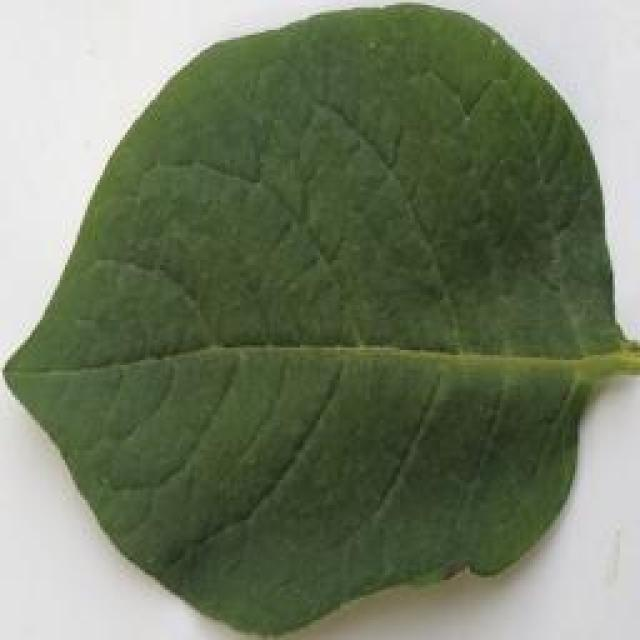Potato_Healthy: (0, 18, 625, 638)
